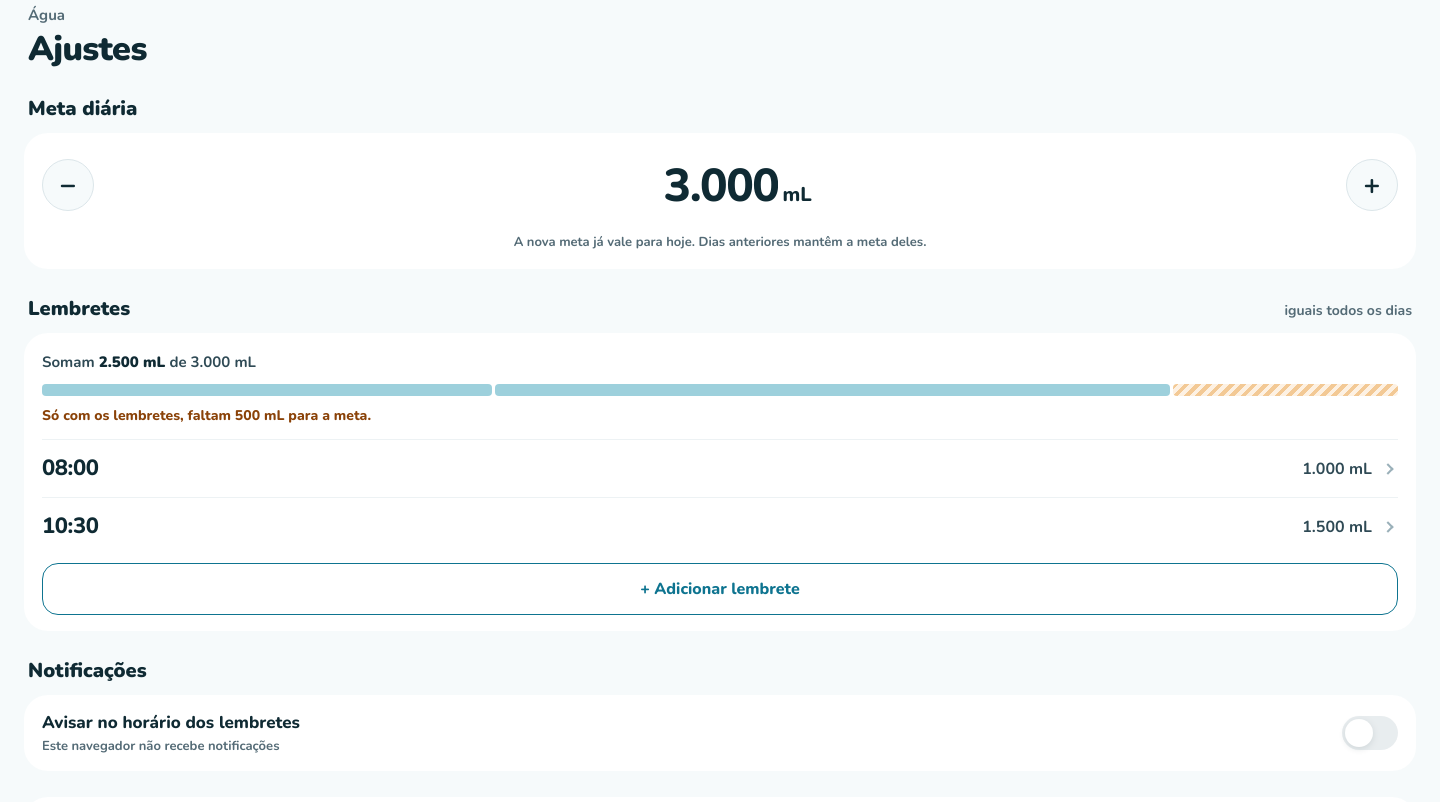
Test: WaterSettingsPage (Ajustes) › erro do servidor aparece no painel
The image size is (1440, 802).
Click the button "+ Adicionar lembrete": (720, 589) top-left (42, 563), bottom-right (1398, 615)
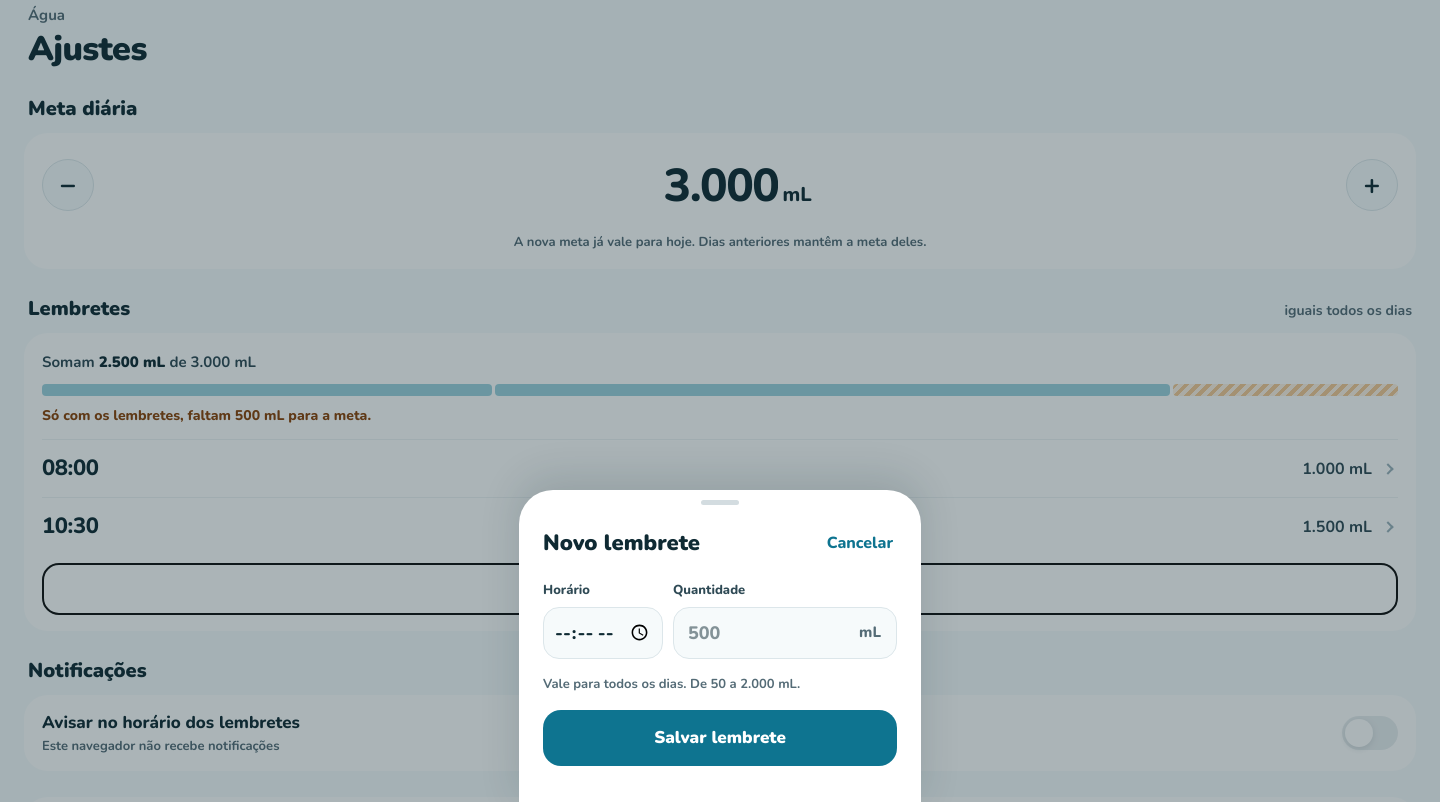
In the time field labelled "Horário": (603, 632) top-left (543, 606), bottom-right (663, 658), type "09:00"
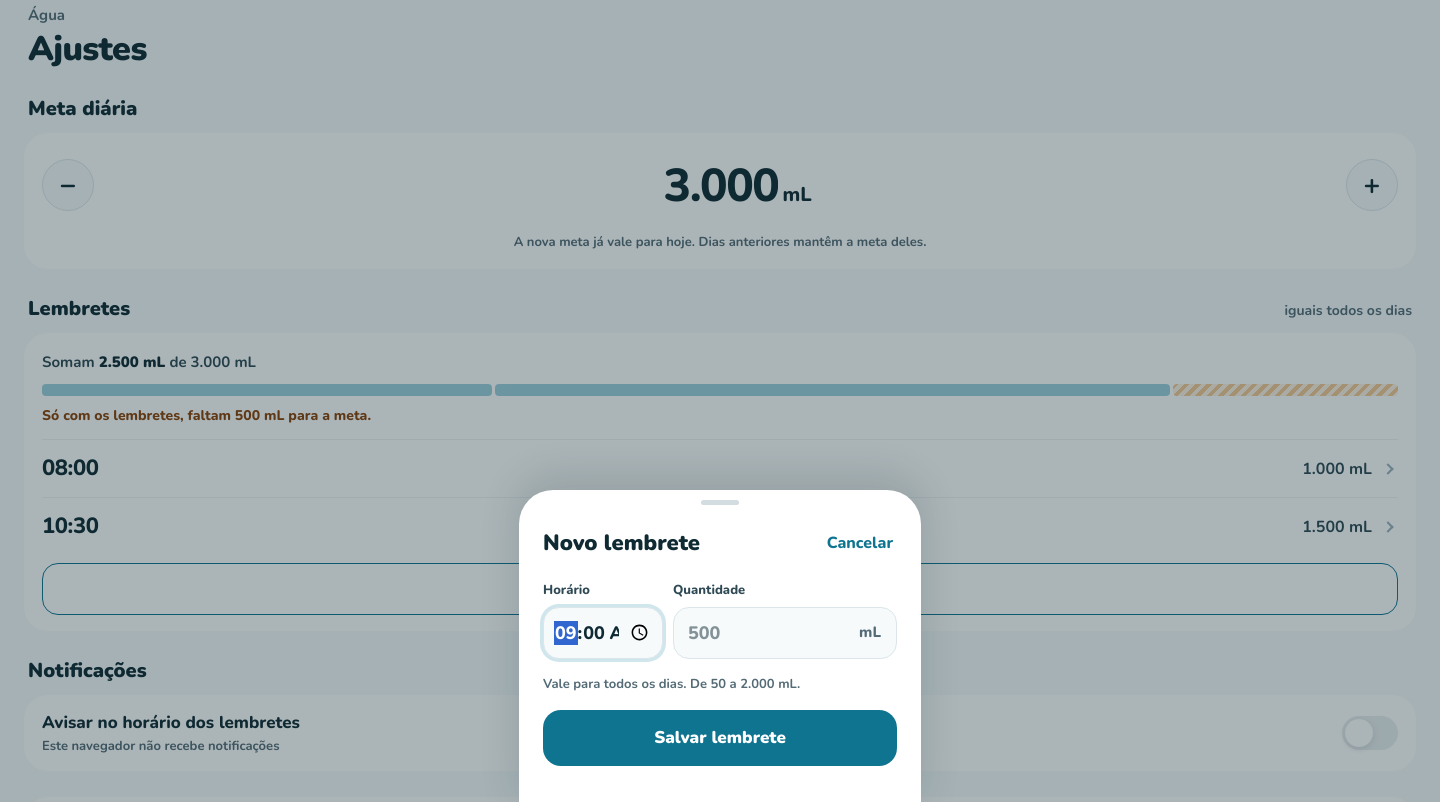
In the field named "Quantidade em mL": (785, 632) top-left (673, 606), bottom-right (897, 658), type "300"
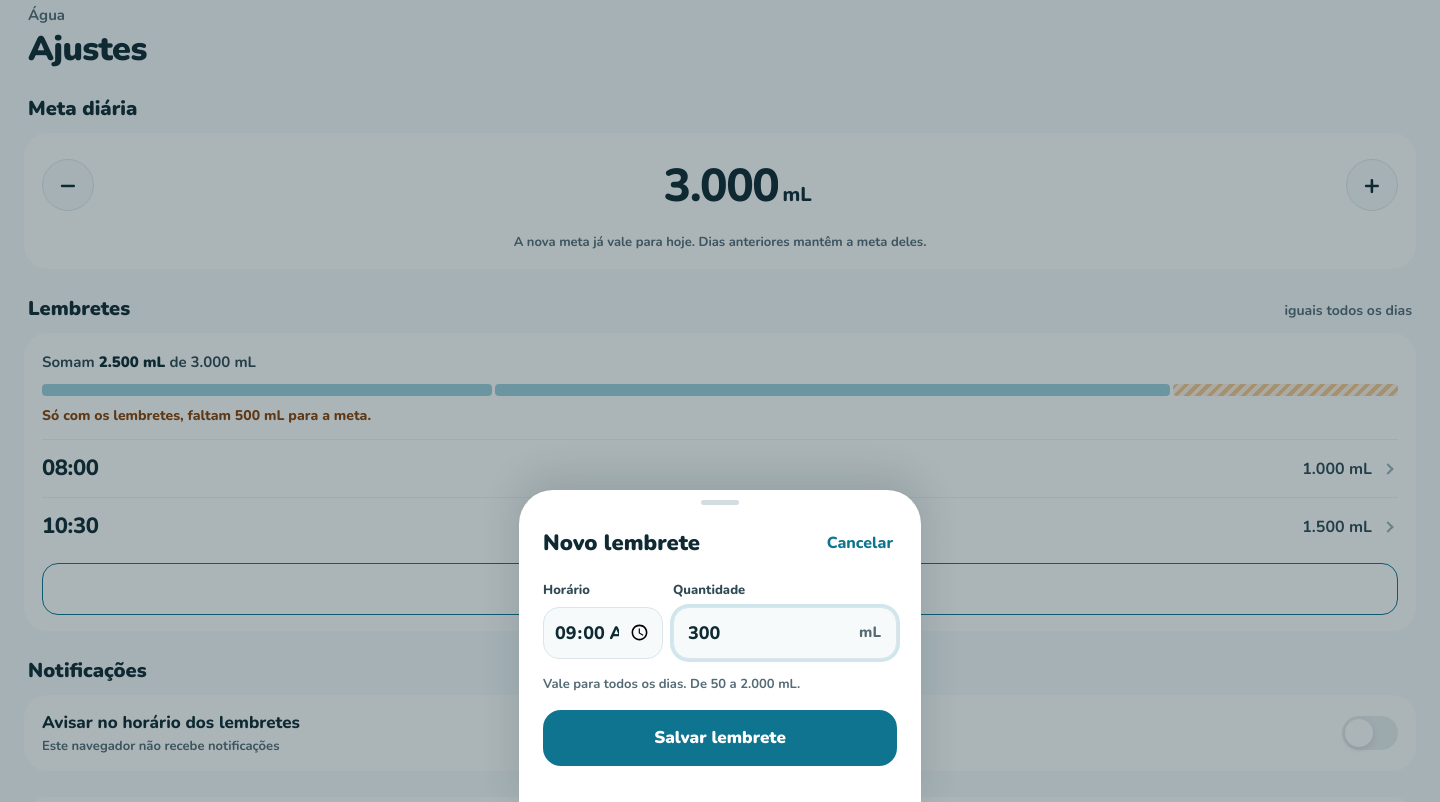
Click the button "Salvar lembrete": (720, 738) top-left (543, 710), bottom-right (897, 766)
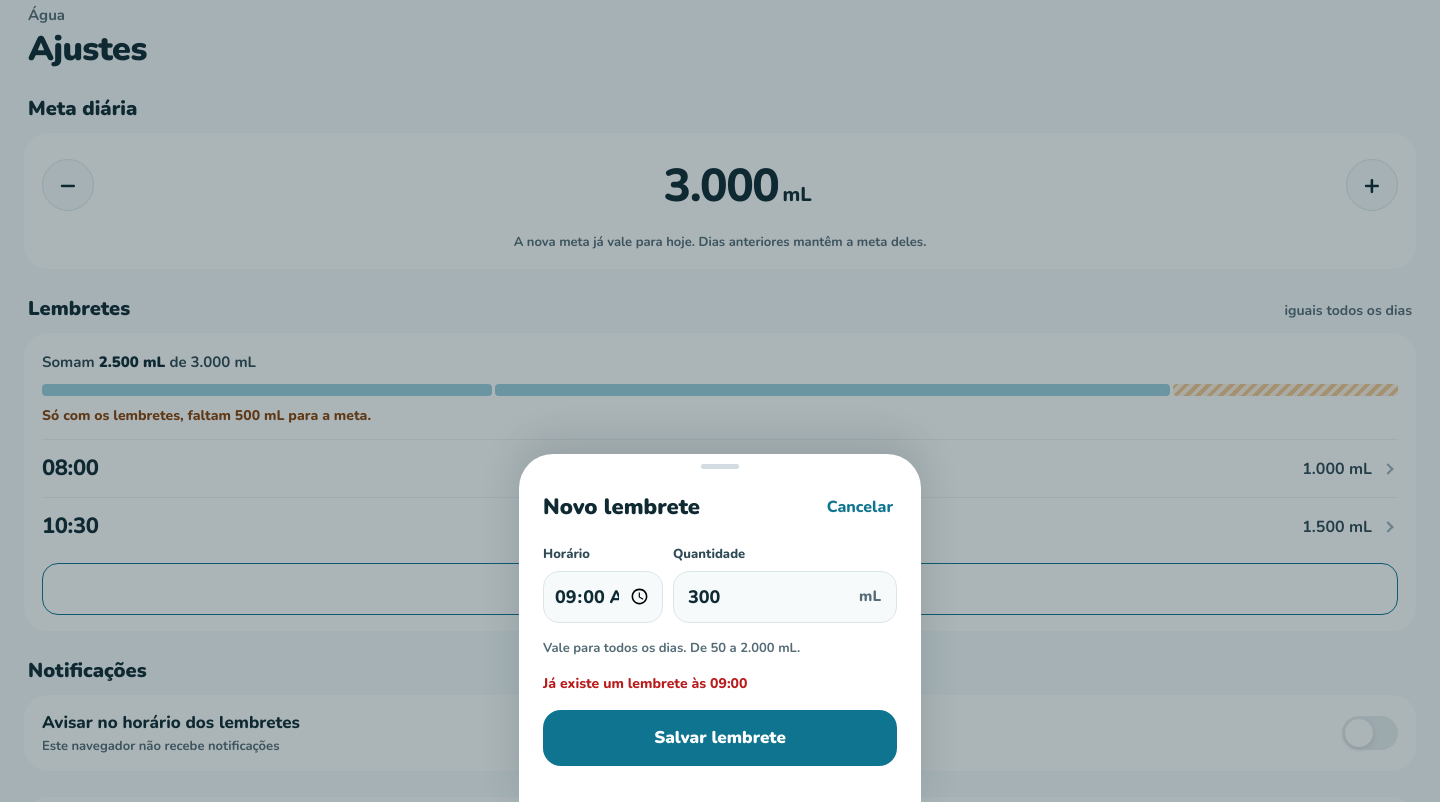
Expected: the message reads "Já existe um lembrete às 09:00", top-left (543, 674), bottom-right (747, 693)
